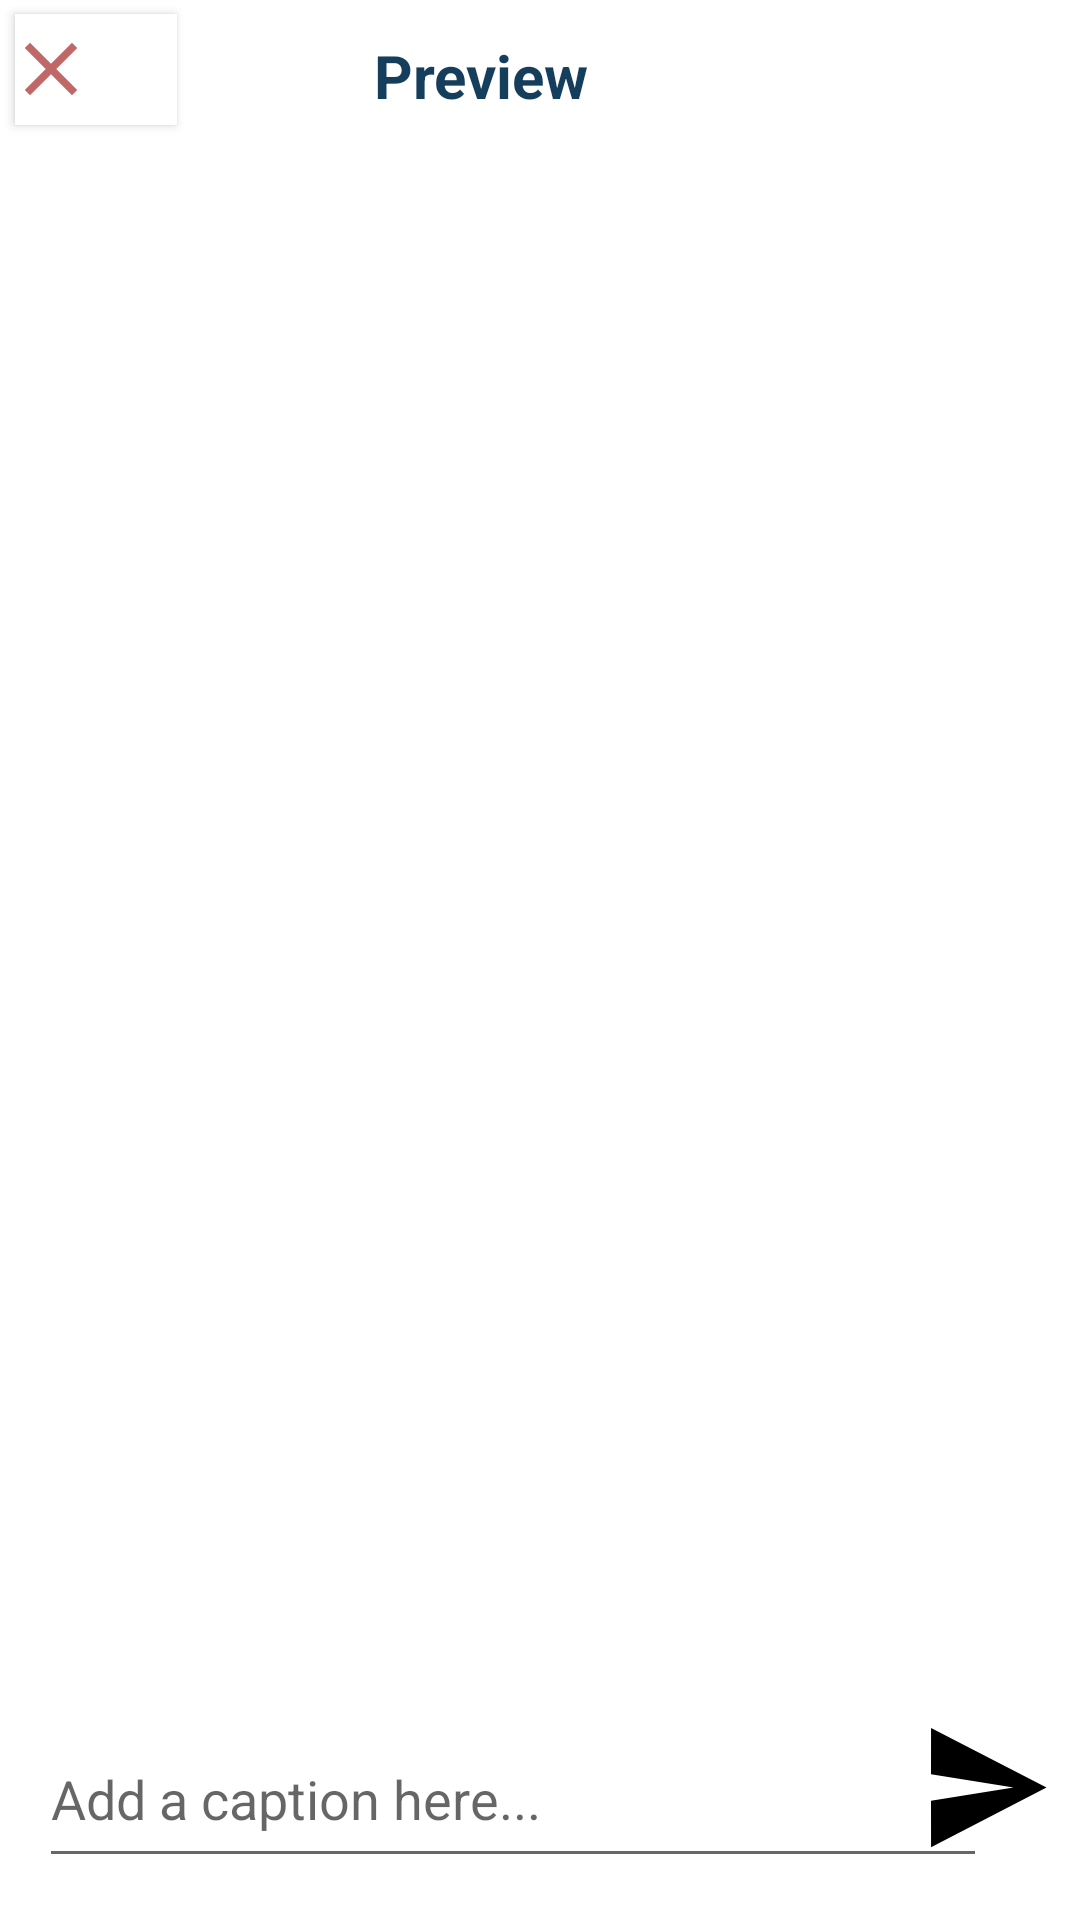

Icons on this 1080×1920 Android screen, each with the point to tap as (x,y):
send: (989,1787)
